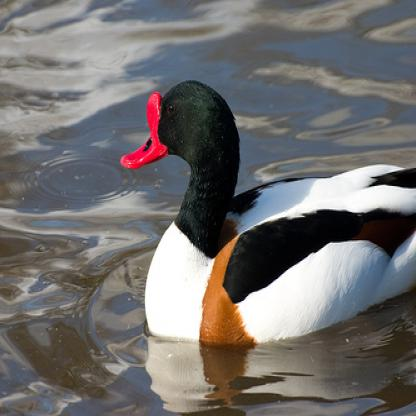bird: (119, 78, 415, 344)
